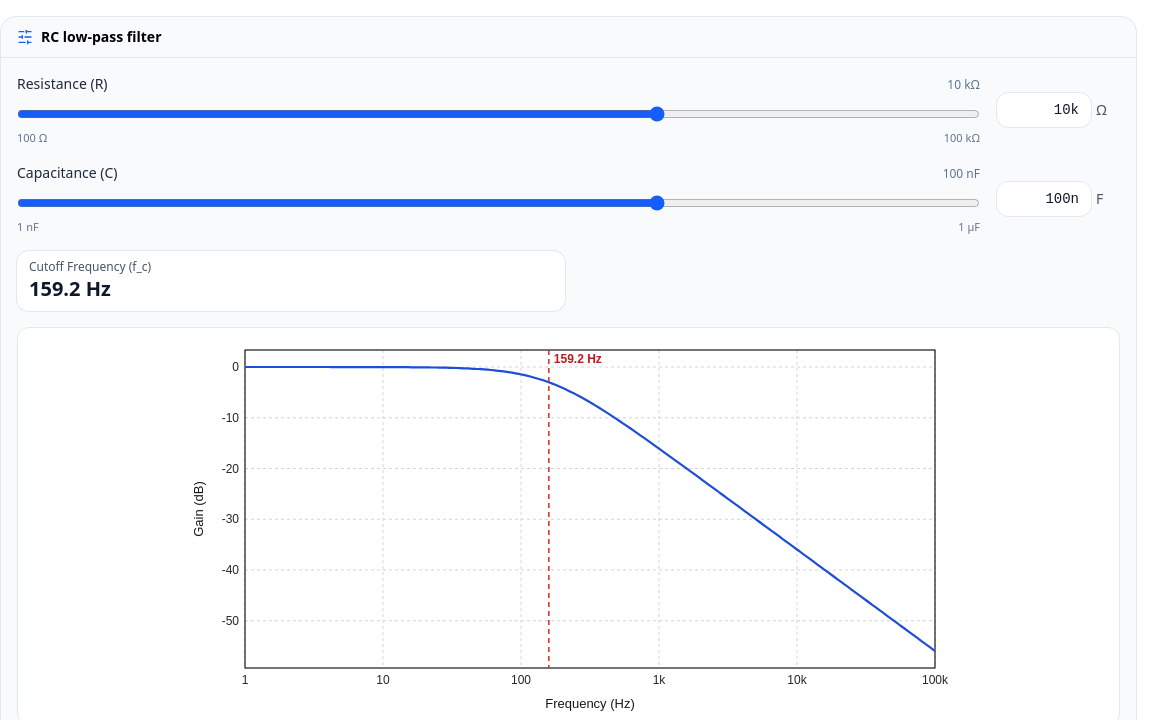
Scenario: InteractiveParameterSlider › an unparsable entry is flagged and reverts to the current value
Replace the text in the field named "Exact value of Resistance (R)" with "alert(1)" at [1044, 110], box [996, 92, 1092, 128]
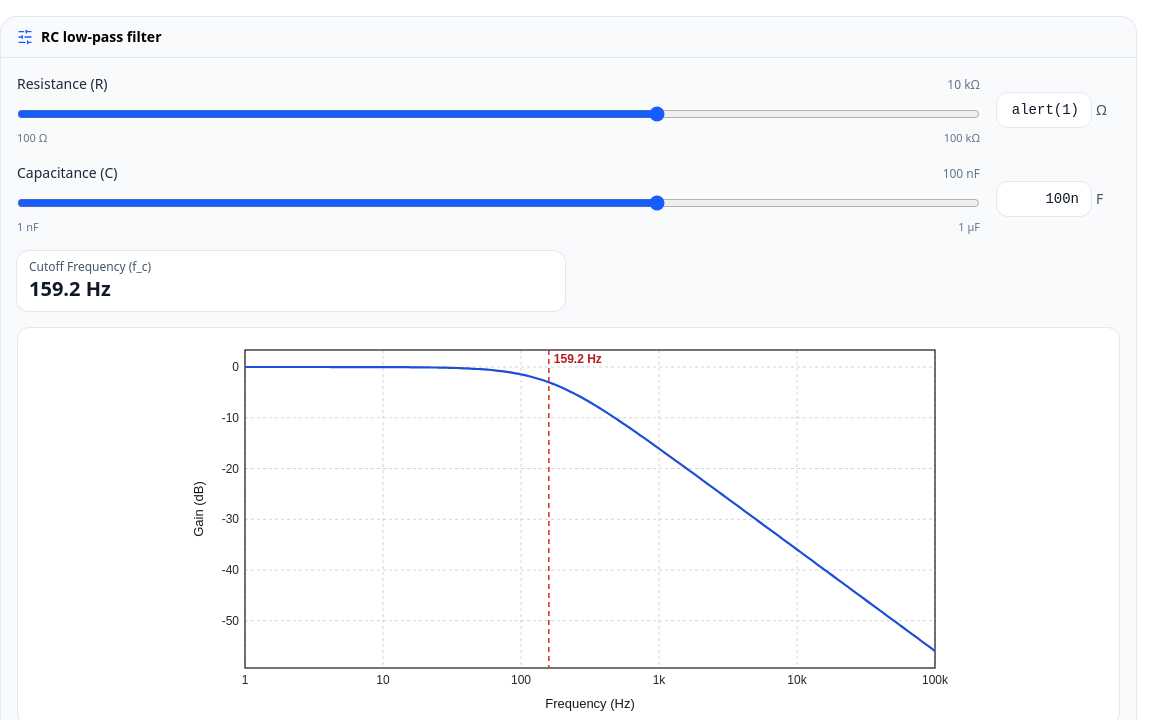
Leave the field named "Exact value of Resistance (R)", box [996, 92, 1092, 128]
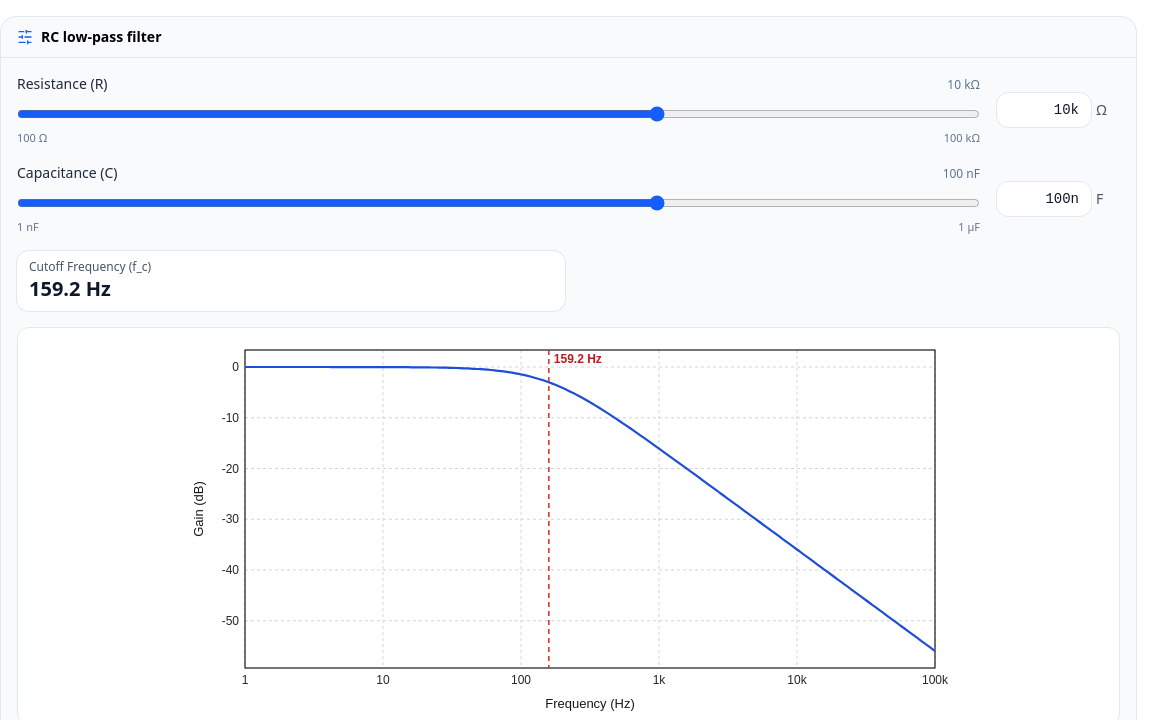
Expected: the field named "Exact value of Resistance (R)" holds "10k", [996, 92, 1092, 128]
